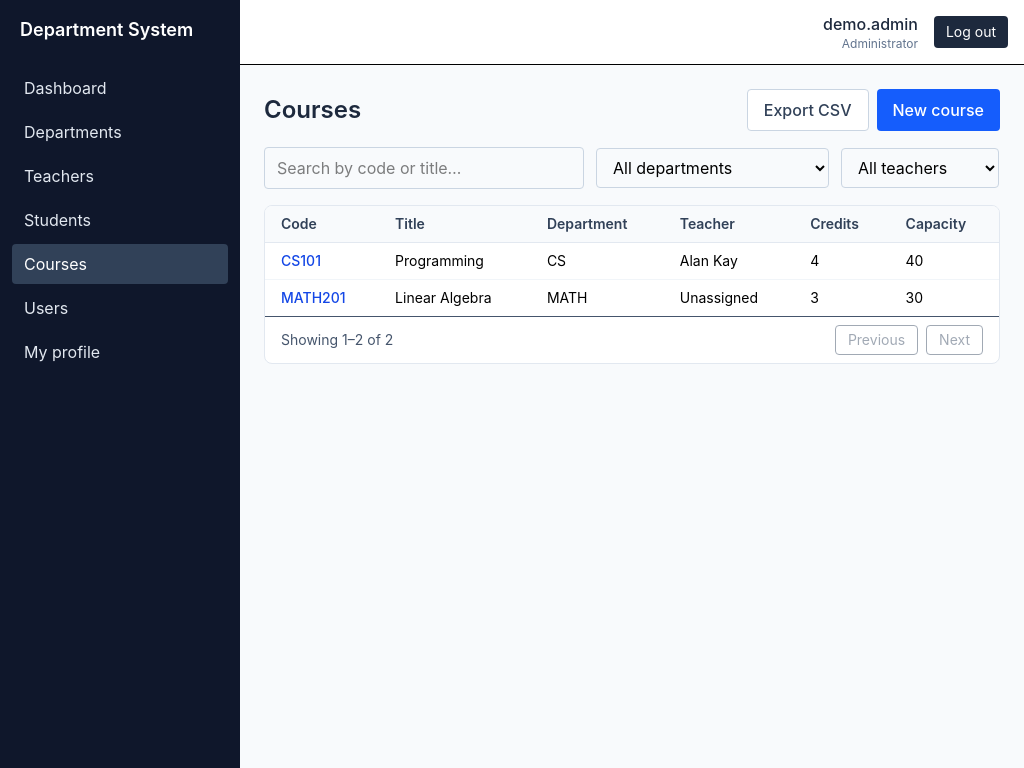
Test: Course form (create) › shows "Emmy Noether is not in department CS; a course's teacher must belong to the course's department" under its field
The width and height of the screenshot is (1024, 768).
Click the button "New course" at (938, 110), box [876, 89, 1000, 131]
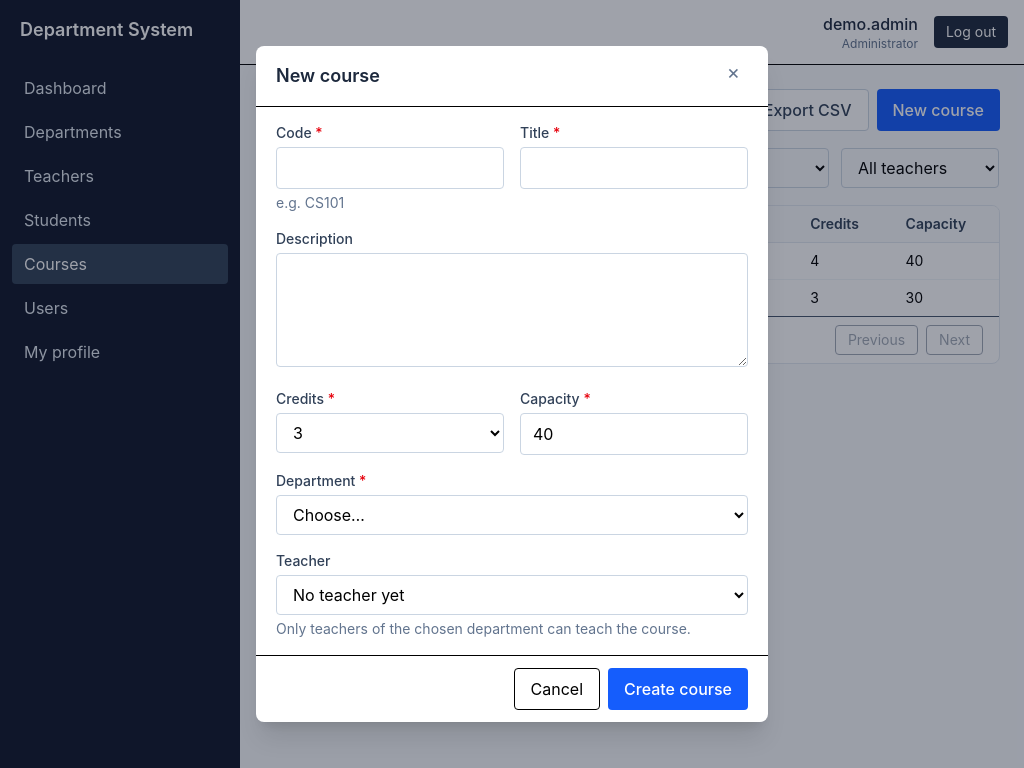
Type "CS101" into the field labelled "Code *" at (390, 168), box [276, 147, 504, 189]
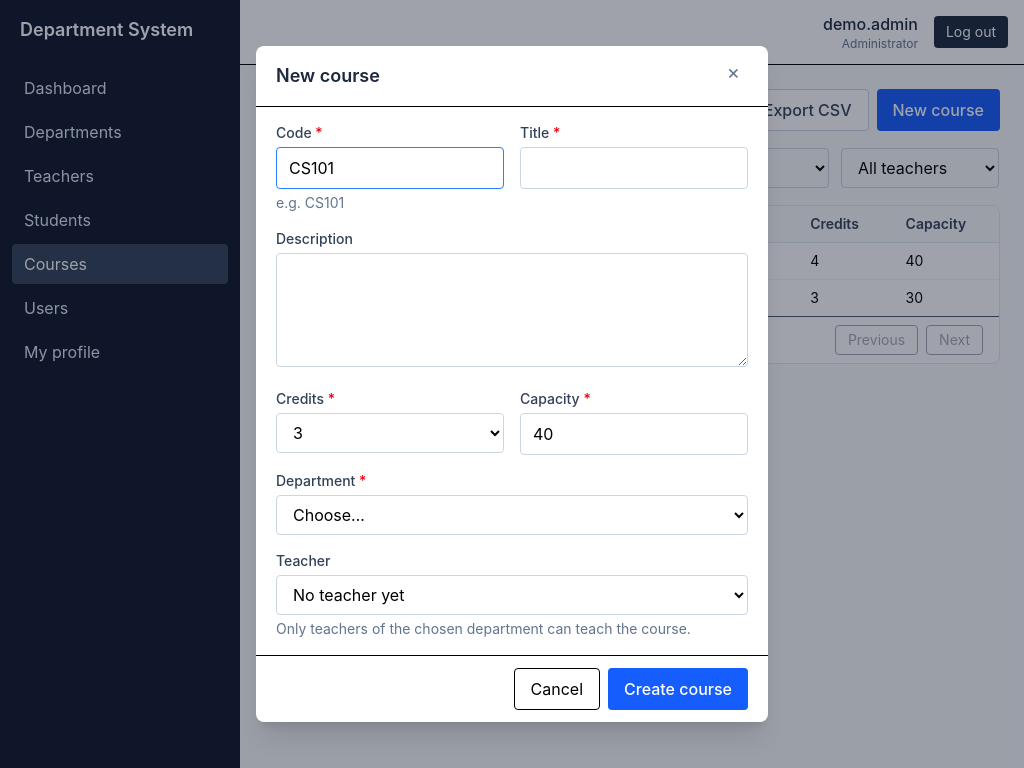
Type "Programming" into the field labelled "Title *" at (634, 168), box [520, 147, 748, 189]
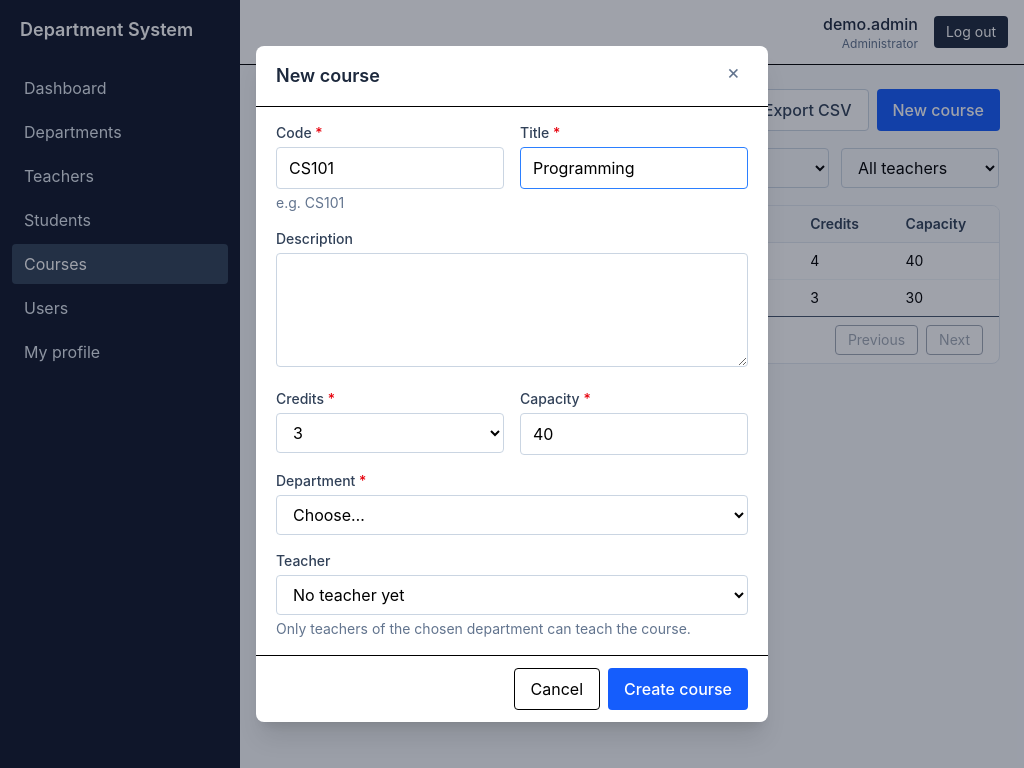
Select "CS — Computer Science" in the dropdown labelled "Department *" at (512, 515), box [276, 495, 748, 535]
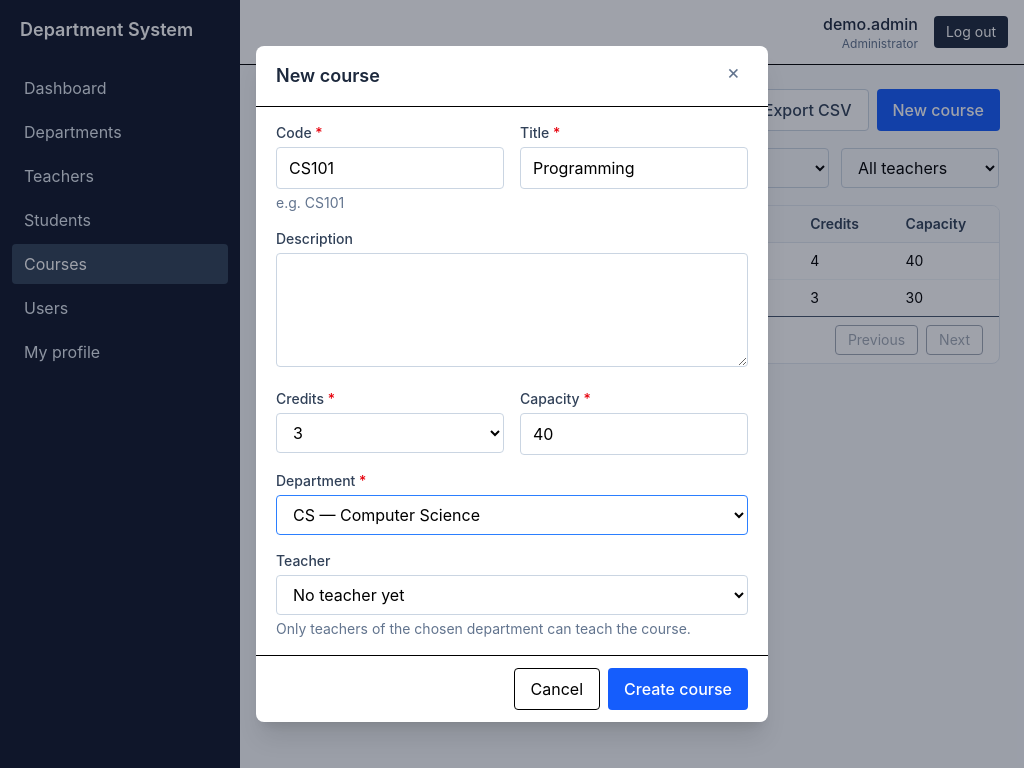
Click the button "Create course" at (678, 689), box [608, 668, 748, 710]
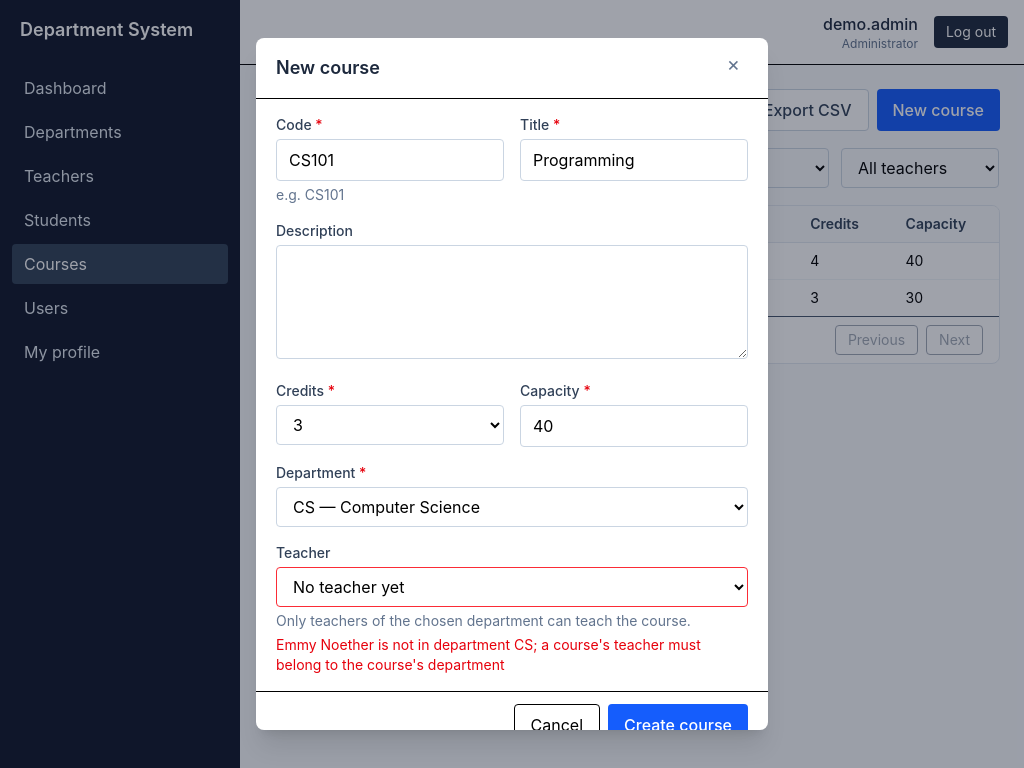
Expected: the text "Emmy Noether is not in department CS; a course's teacher must belong to the course's department" is shown, [276, 636, 701, 673]
